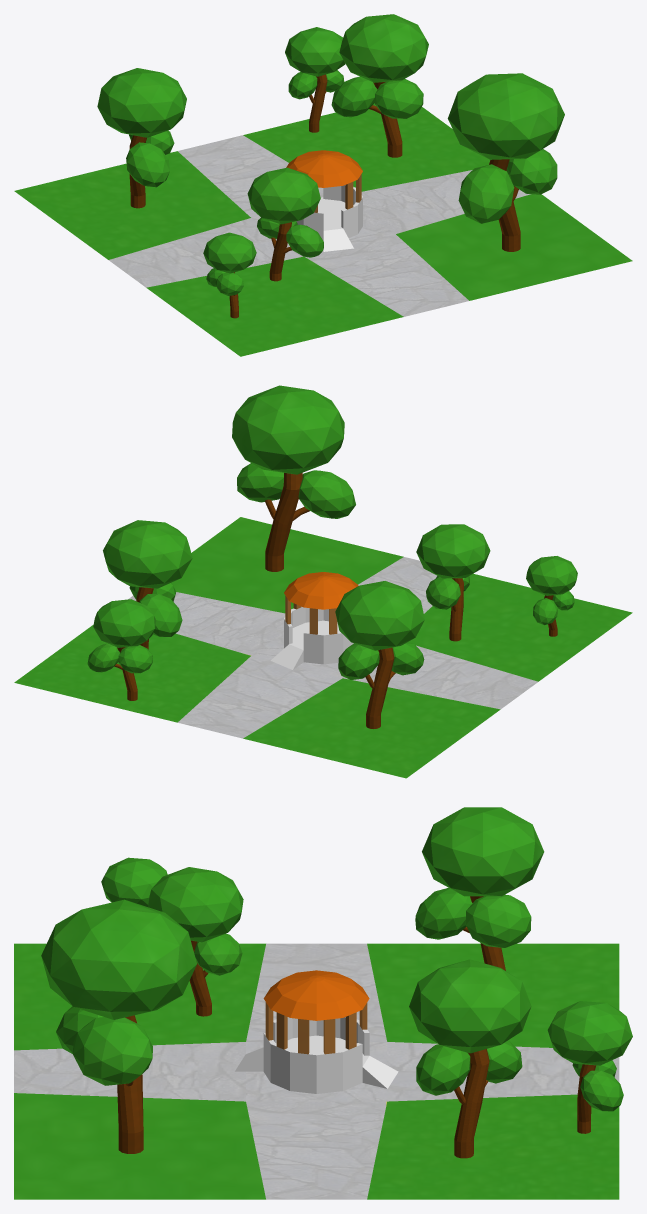
The model's file is Praça.fbx.
3 renders of one model, top to bottom at view 1: azimuth 30°, elevation 25°; view 2: azimuth 150°, elevation 25°; view 3: azimuth 270°, elevation 25°, orthographic. The views are drawn at different scales.
Parts seen in each view (by area): view 1: Parque; view 2: Parque; view 3: Parque.
Boxes of the visible parts, x1,y1,x2,y2 form: Parque: [14, 14, 632, 356]; Parque: [14, 385, 632, 778]; Parque: [14, 807, 632, 1199].
Bounding box in the file's own units: 2454 × 2400 × 1228.
1 material, 1 textured.
